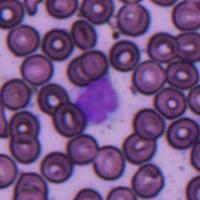M: (75, 75, 122, 125)
